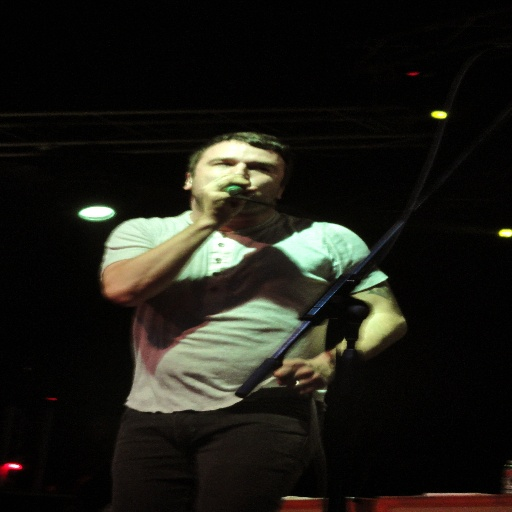hand: (198, 170, 263, 226), (275, 354, 334, 395)
